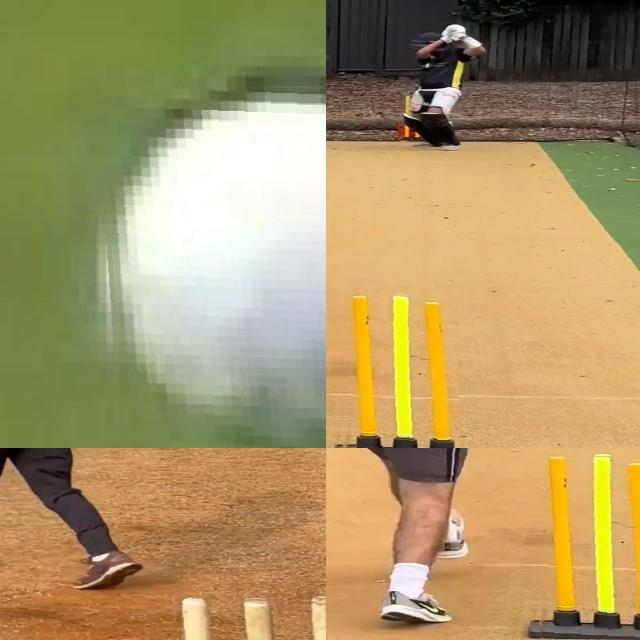Cricket ball: (94, 77, 326, 448)
Stumps: (527, 453, 640, 639), (331, 290, 459, 448), (177, 596, 326, 640)
